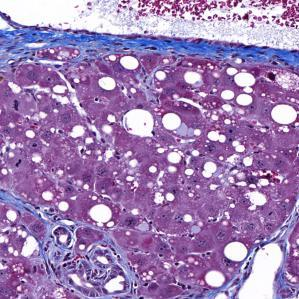fibrosis: (41, 222, 139, 294), (30, 27, 140, 62), (170, 36, 278, 71)
